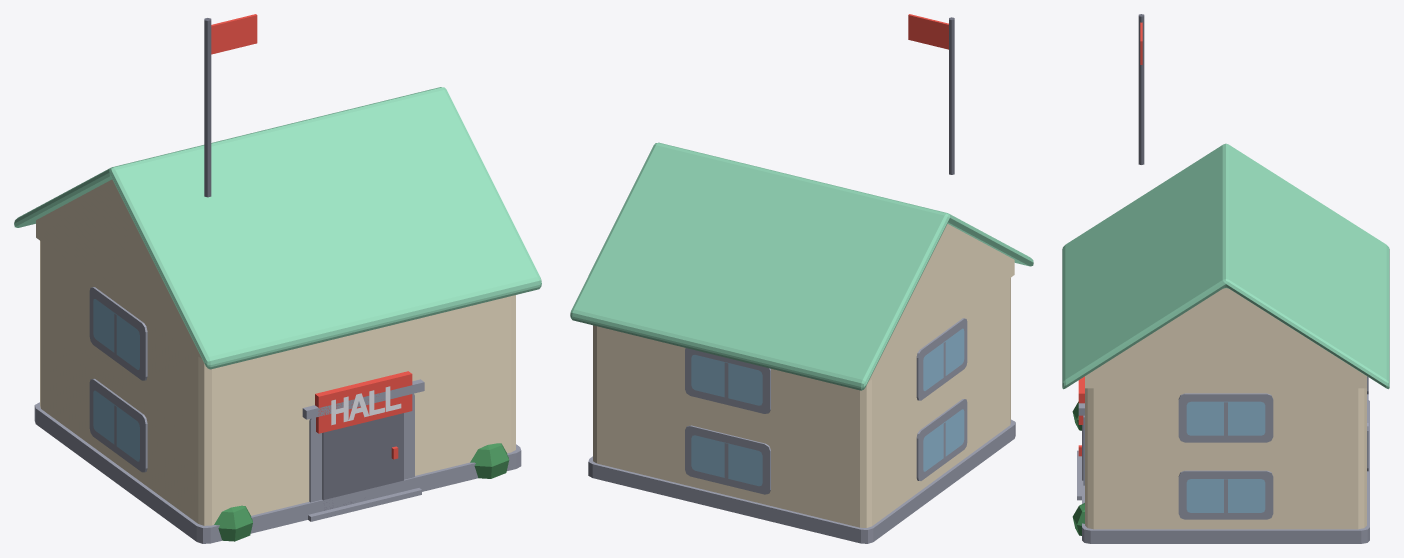
Rendered from community-hall-1x1-2f.glb.
3 views of the same model, side by side, from view 1: azimuth 30°, elevation 25°; view 2: azimuth 150°, elevation 25°; view 3: azimuth 270°, elevation 25° (orthographic). The views are drawn at different scales.
Parts seen in each view (by area): view 1: community-hall-1x1-2f; view 2: community-hall-1x1-2f; view 3: community-hall-1x1-2f.
Part boxes in pixels (x1=…): community-hall-1x1-2f: x1=14, y1=14, x2=541, y2=543; community-hall-1x1-2f: x1=570, y1=14, x2=1033, y2=543; community-hall-1x1-2f: x1=1062, y1=14, x2=1389, y2=543.
Size of the model in its own units: 1 by 1.39 by 1.
1 material, 1 textured.
